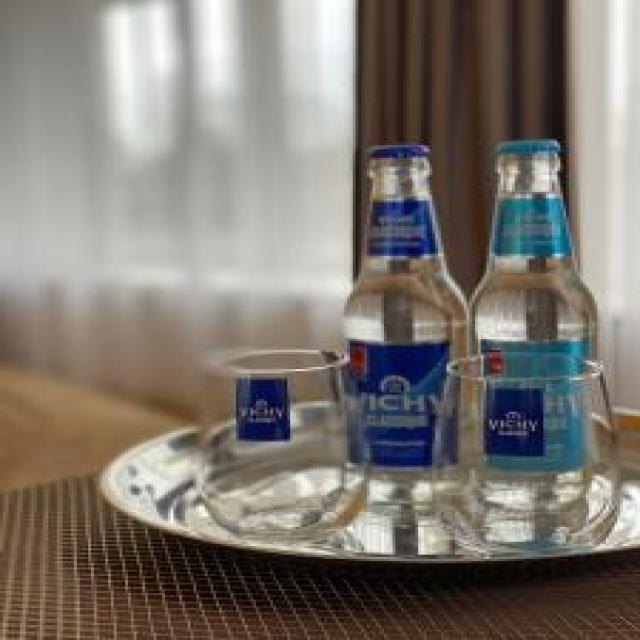bottle: (440, 123, 610, 502), (324, 130, 481, 523)
